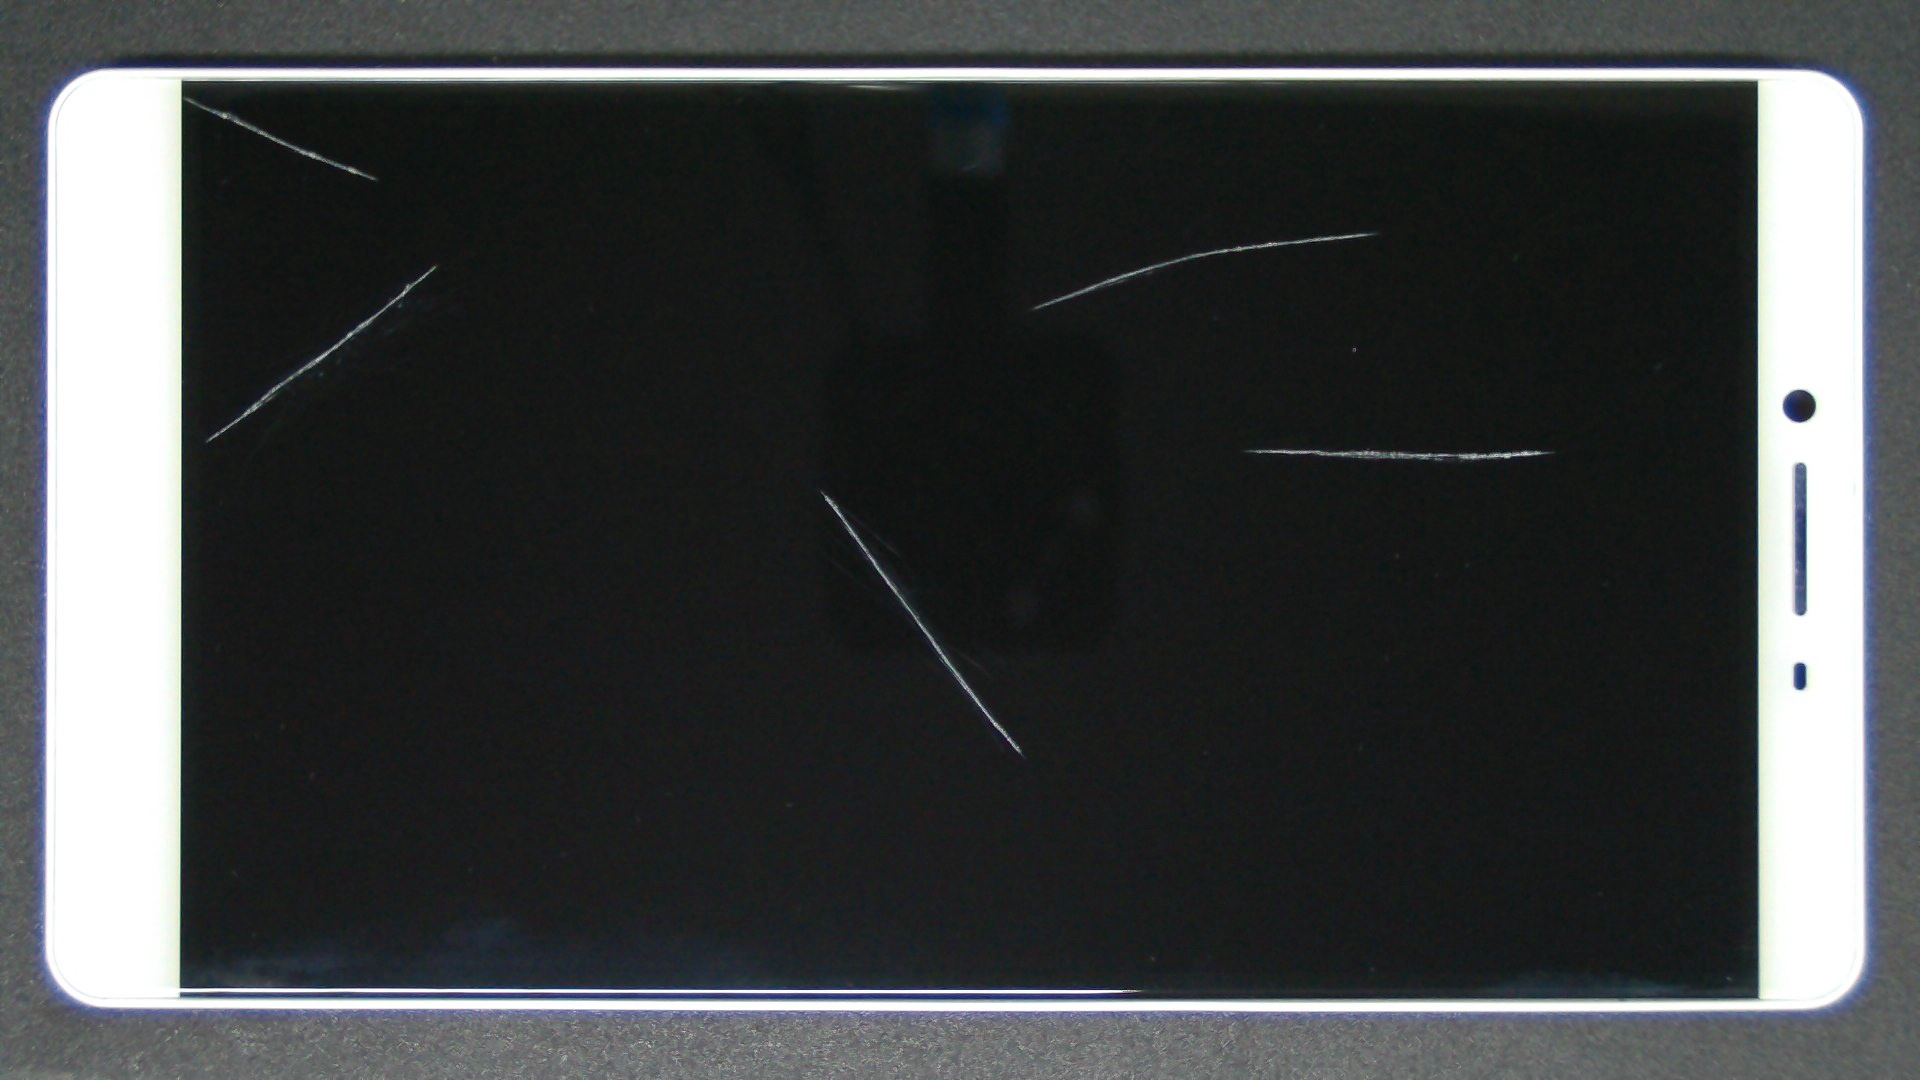oil: (624, 223, 1870, 673), (411, 243, 1229, 733), (684, 115, 1920, 347), (219, 129, 645, 401), (92, 47, 276, 145)
